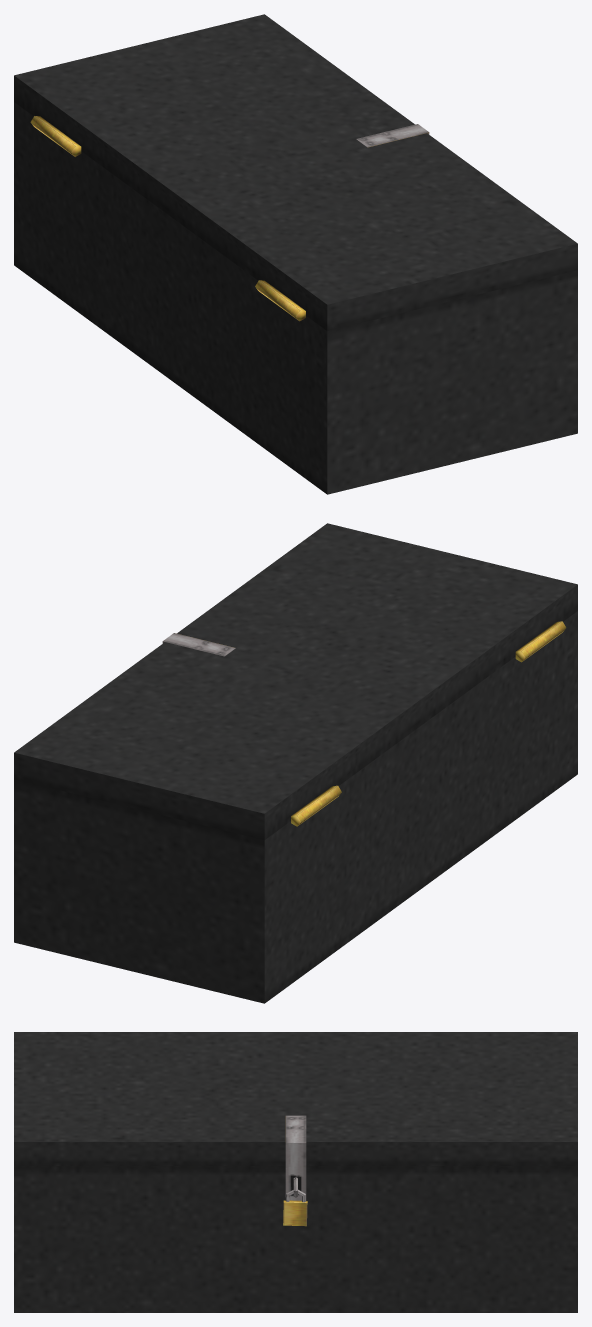
Rendered from LockBox.fbx.
3 renders of one model, top to bottom at view 1: azimuth 30°, elevation 25°; view 2: azimuth 150°, elevation 25°; view 3: azimuth 270°, elevation 25°, orthographic. The views are drawn at different scales.
Visible parts, largest first — view 1: Box, lid; view 2: Box, lid; view 3: Box, lid, Lock.001.
Boxes of the visible parts, x1,y1,x2,y2 form: Box: (14, 102, 577, 494); lid: (14, 14, 577, 331); Box: (14, 611, 577, 1003); lid: (14, 523, 577, 840); Box: (14, 1166, 577, 1312); lid: (14, 1032, 577, 1200); Lock.001: (283, 1200, 307, 1226).
Size of the model in its own units: 65.33 by 43.3 by 129.
